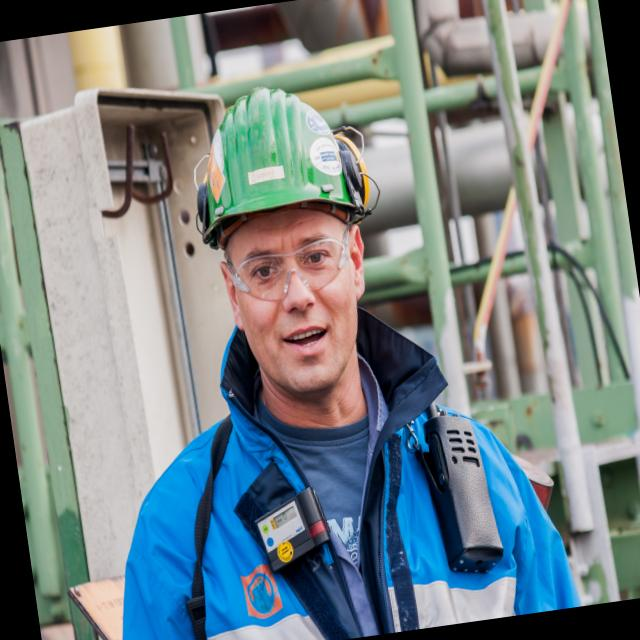goggles: (221, 217, 366, 310)
helmet: (178, 74, 372, 248)
vest: (79, 339, 580, 640)
